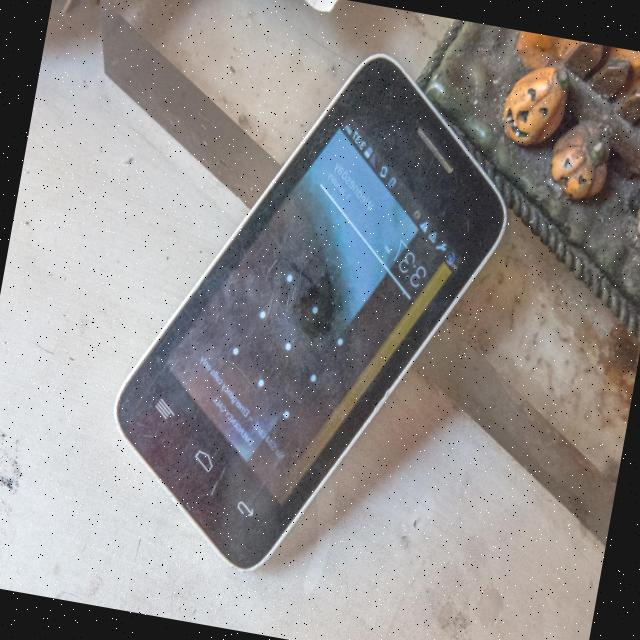Phone: (90, 16, 534, 605)
